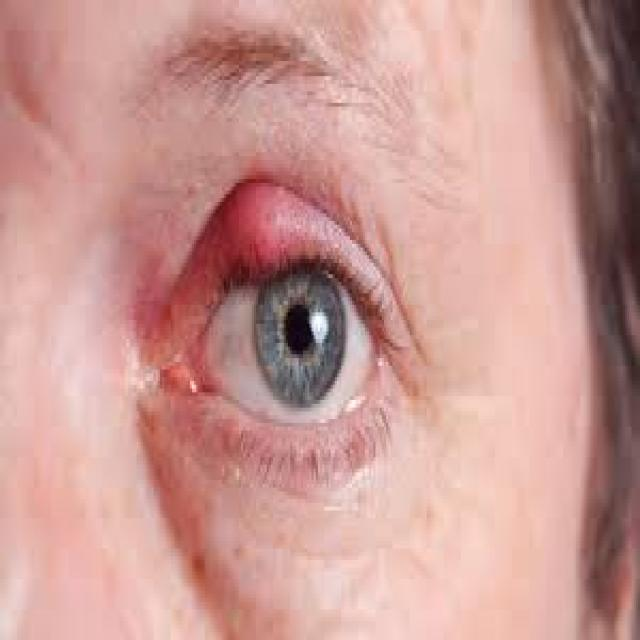burn: (137, 370, 381, 624), (143, 179, 410, 366)
